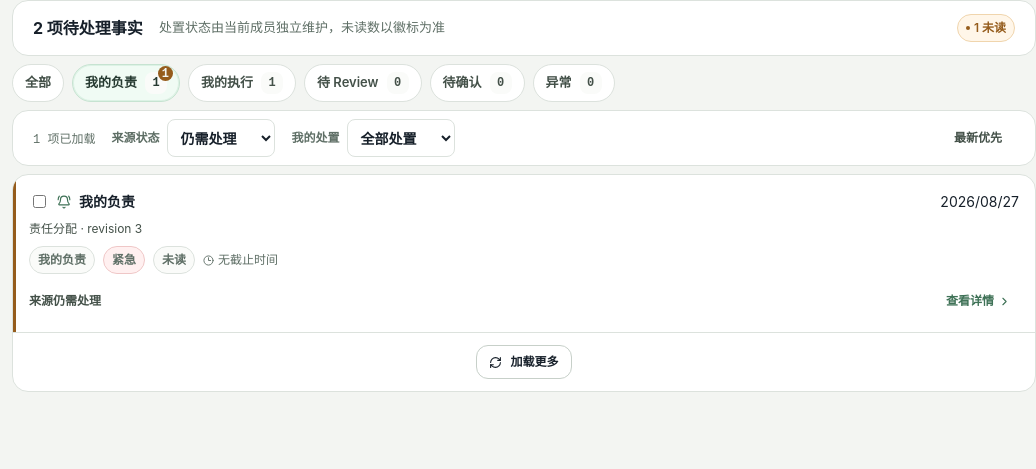
InboxWorkspace › hides the batch bar and its count until a row is selected
Expected: the text "已选" is not shown
Click the checkbox at (40, 202), box x1=33 y1=195 x2=46 y2=208
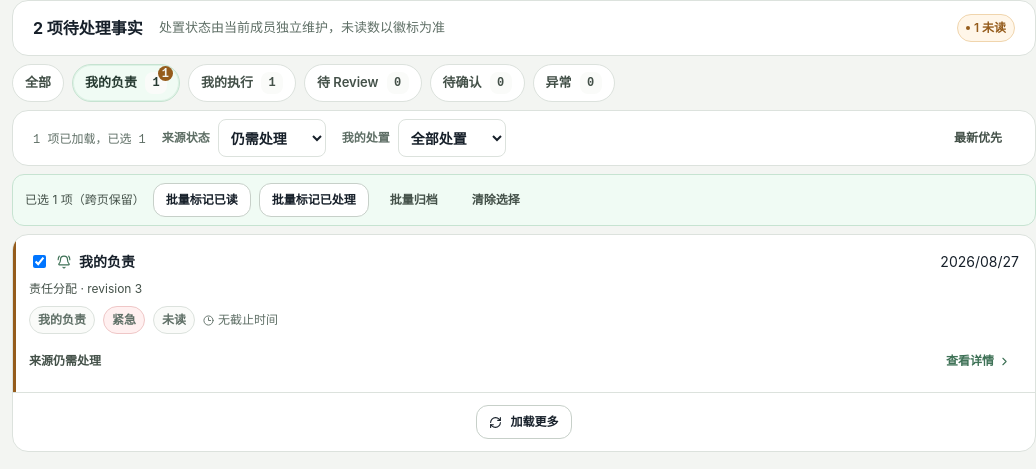
Expected: the element named "批量处置" shows "已选 1 项（跨页保留）", x1=25 y1=192 x2=145 y2=207
